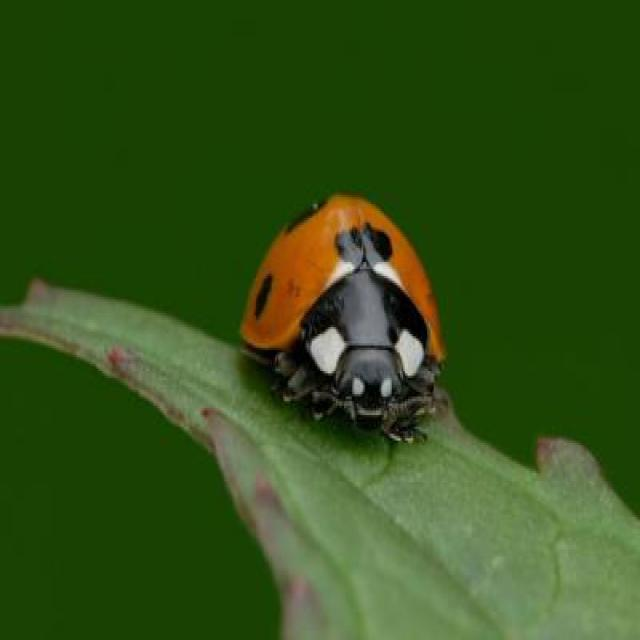antennae: (388, 389, 448, 425)
body: (240, 186, 448, 424)
insect: (240, 186, 451, 446)
mouthpart: (352, 372, 390, 448)
wings: (240, 185, 450, 359)
